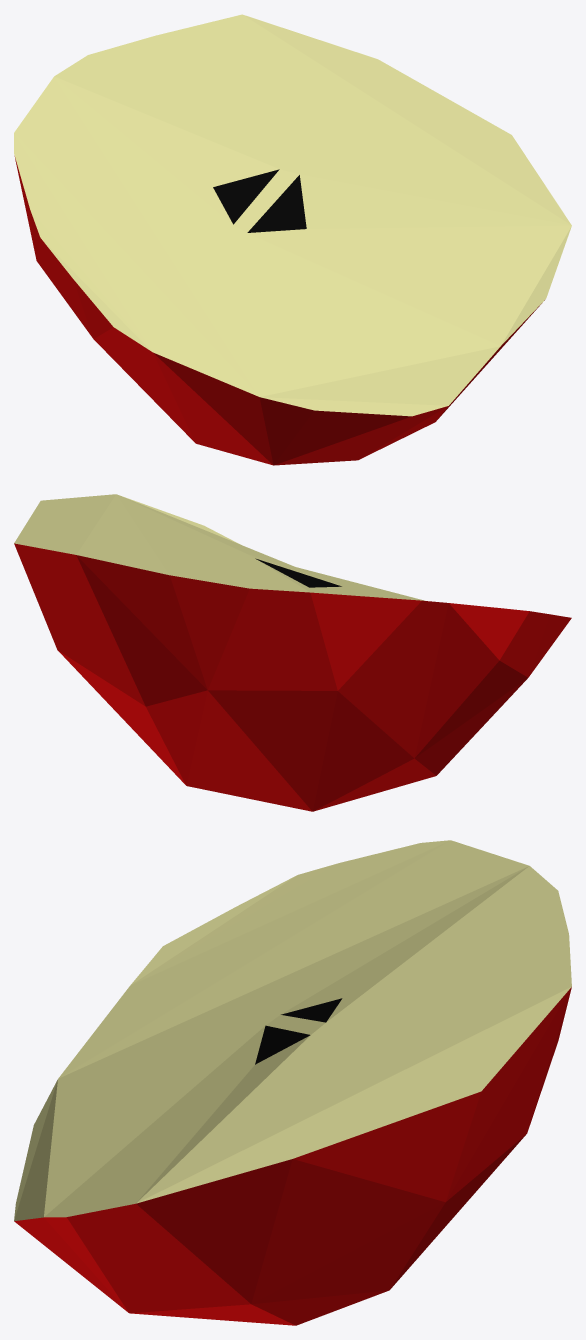
Rendered from Apple_2.fbx.
3 renders of one model, top to bottom at view 1: azimuth 30°, elevation 25°; view 2: azimuth 150°, elevation 25°; view 3: azimuth 270°, elevation 25°, orthographic. The views are drawn at different scales.
Visible parts, largest first — view 1: Cylinder.014; view 2: Cylinder.014; view 3: Cylinder.014.
Boxes of the visible parts, x1,y1,x2,y2 form: Cylinder.014: (14, 14, 571, 465); Cylinder.014: (14, 494, 571, 811); Cylinder.014: (14, 840, 571, 1325).
Size of the model in its own units: 126 by 86.29 by 145.
